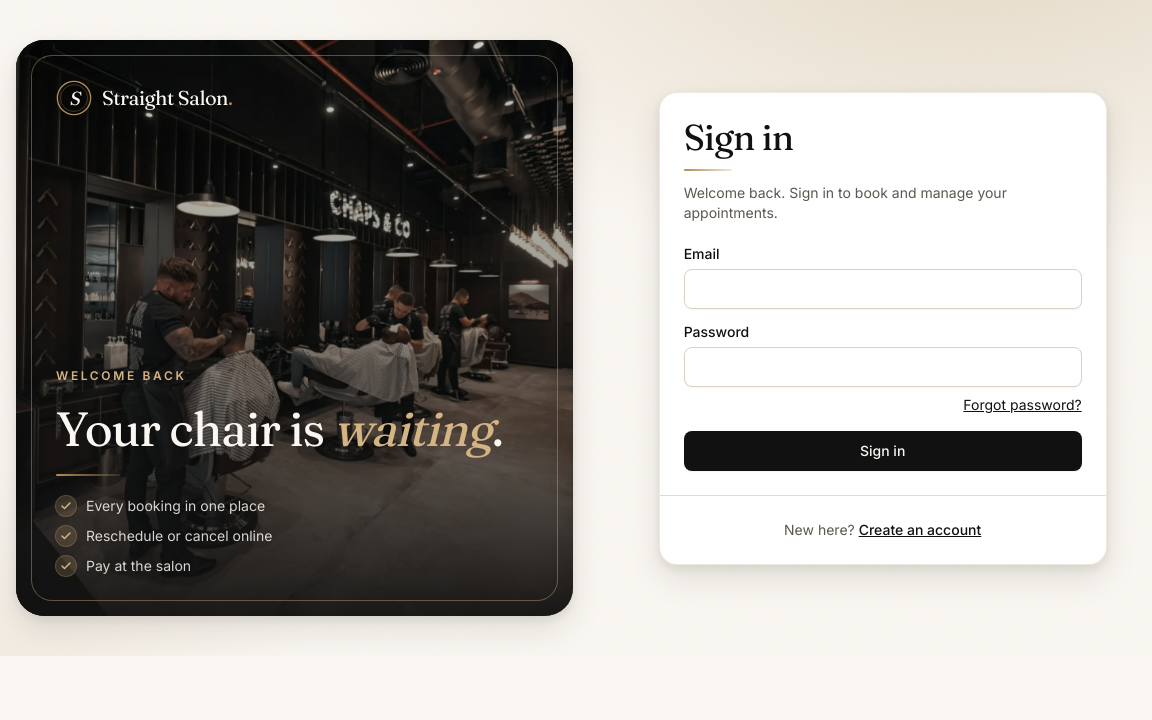
it: login page (API-002, 05 §5) › lockout and outages use the mapped messages
This screenshot has width=1152, height=720.
Type "ananya@example.com" into the field labelled "Email" at [883, 288], box [684,268,1082,308]
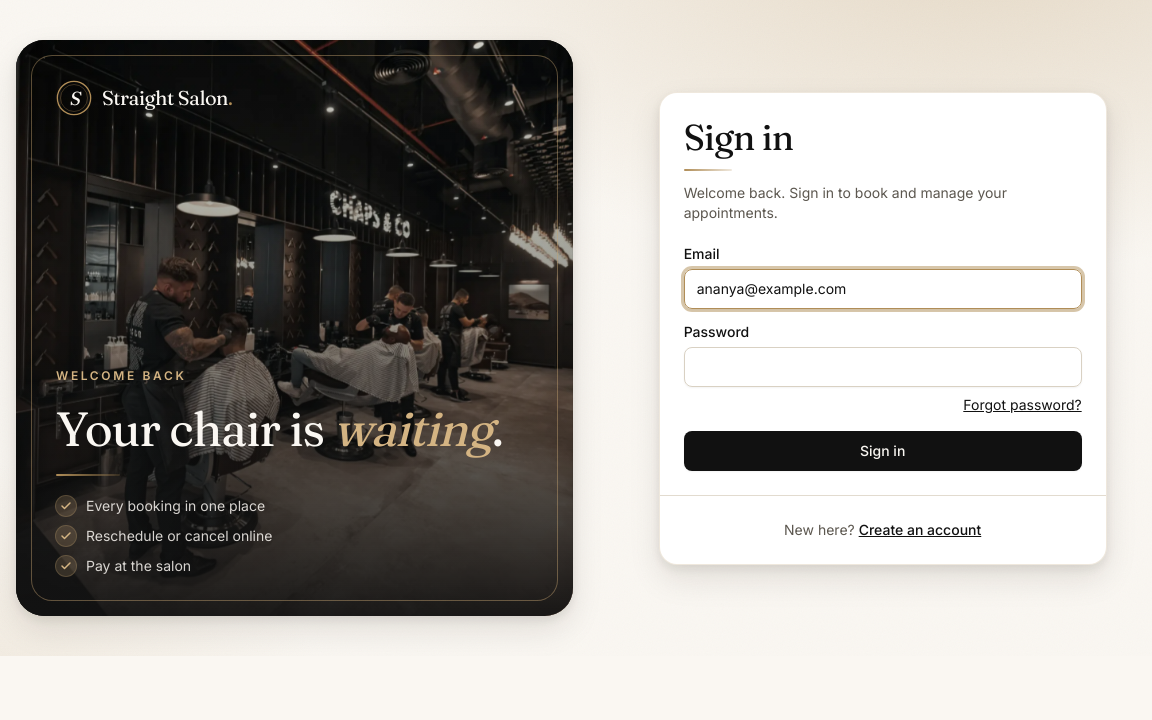
Type "Fade-and-Trim7" into the password field labelled "Password" at [883, 366], box [684,346,1082,386]
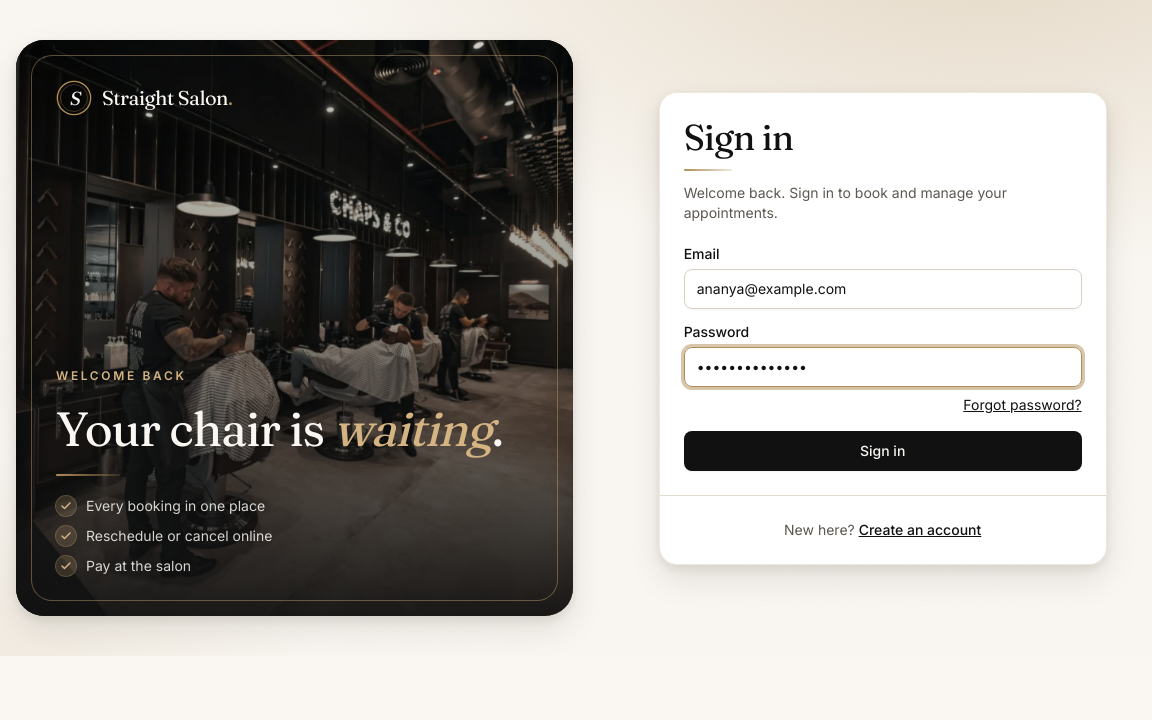
Click the button "Sign in" at [883, 450], box [684,430,1082,470]
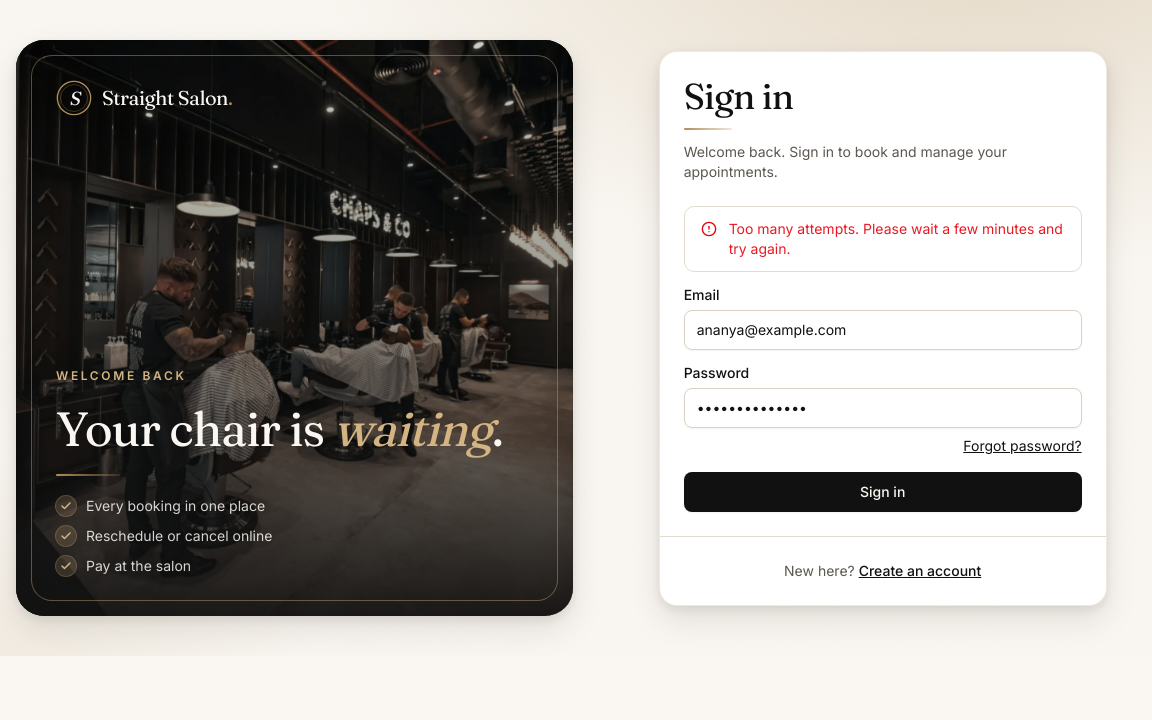
Check: the message shows "Too many attempts", box [729,220,1063,256]
